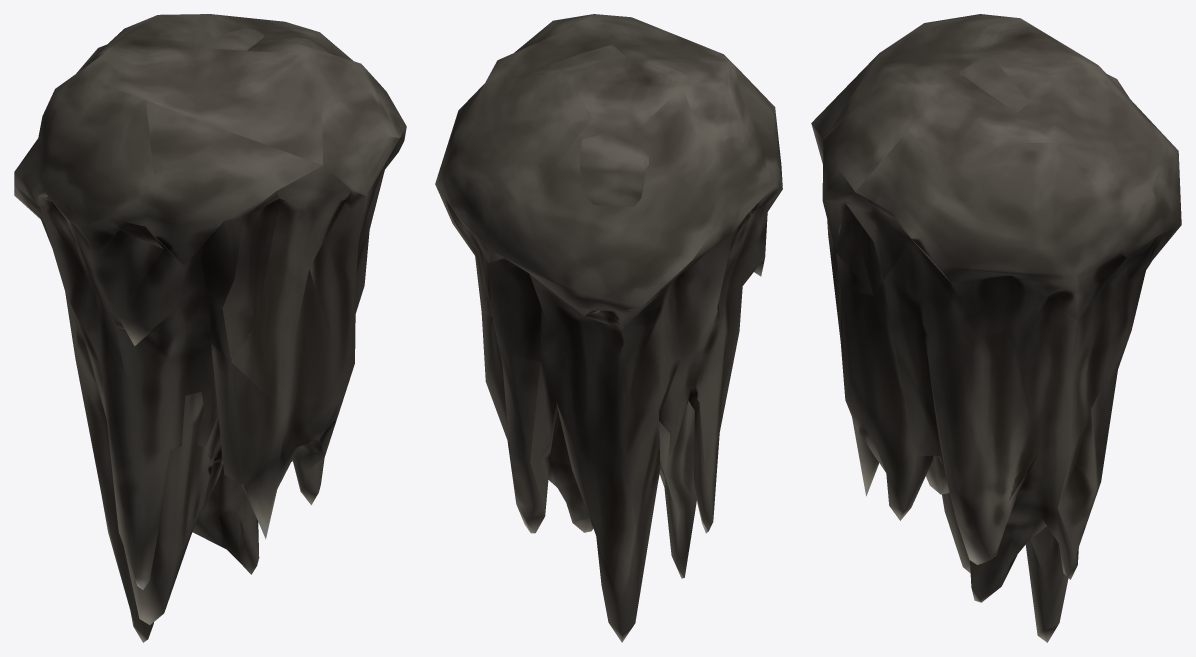
Rendered from Stalacti_optimised.FBX.
3 renders of one model, left to right at view 1: azimuth 30°, elevation 25°; view 2: azimuth 150°, elevation 25°; view 3: azimuth 270°, elevation 25°, orthographic. The views are drawn at different scales.
Visible parts, largest first — view 1: StalactitR1, StalactitR2; view 2: StalactitR1, StalactitR2; view 3: StalactitR1, StalactitR2.
Boxes of the visible parts, bbox=[...] form: StalactitR1: bbox=[14, 14, 406, 642]; StalactitR2: bbox=[76, 28, 292, 624]; StalactitR1: bbox=[435, 14, 782, 642]; StalactitR2: bbox=[540, 44, 696, 578]; StalactitR1: bbox=[811, 14, 1181, 642]; StalactitR2: bbox=[926, 57, 1129, 573].
Bounding box in the file's own units: 124 × 219 × 122.
